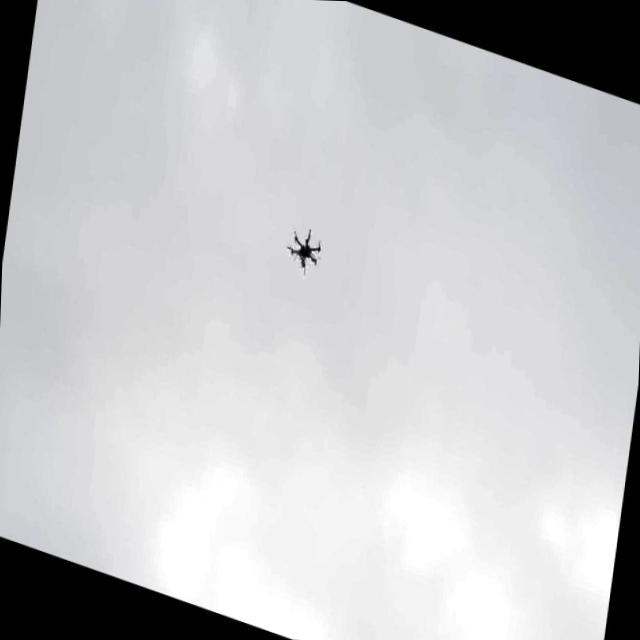drone: (277, 206, 330, 286)
